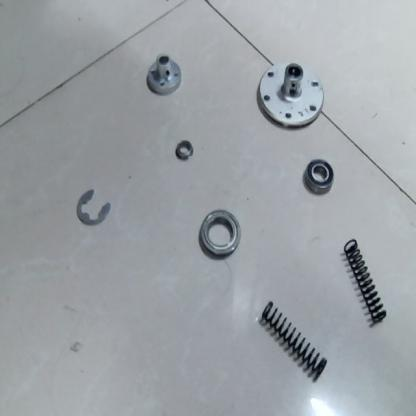FOD: (259, 294, 333, 387), (254, 55, 325, 135), (340, 237, 392, 329), (193, 206, 244, 265), (146, 49, 184, 98), (71, 184, 112, 229), (299, 154, 336, 194), (173, 136, 198, 162)
